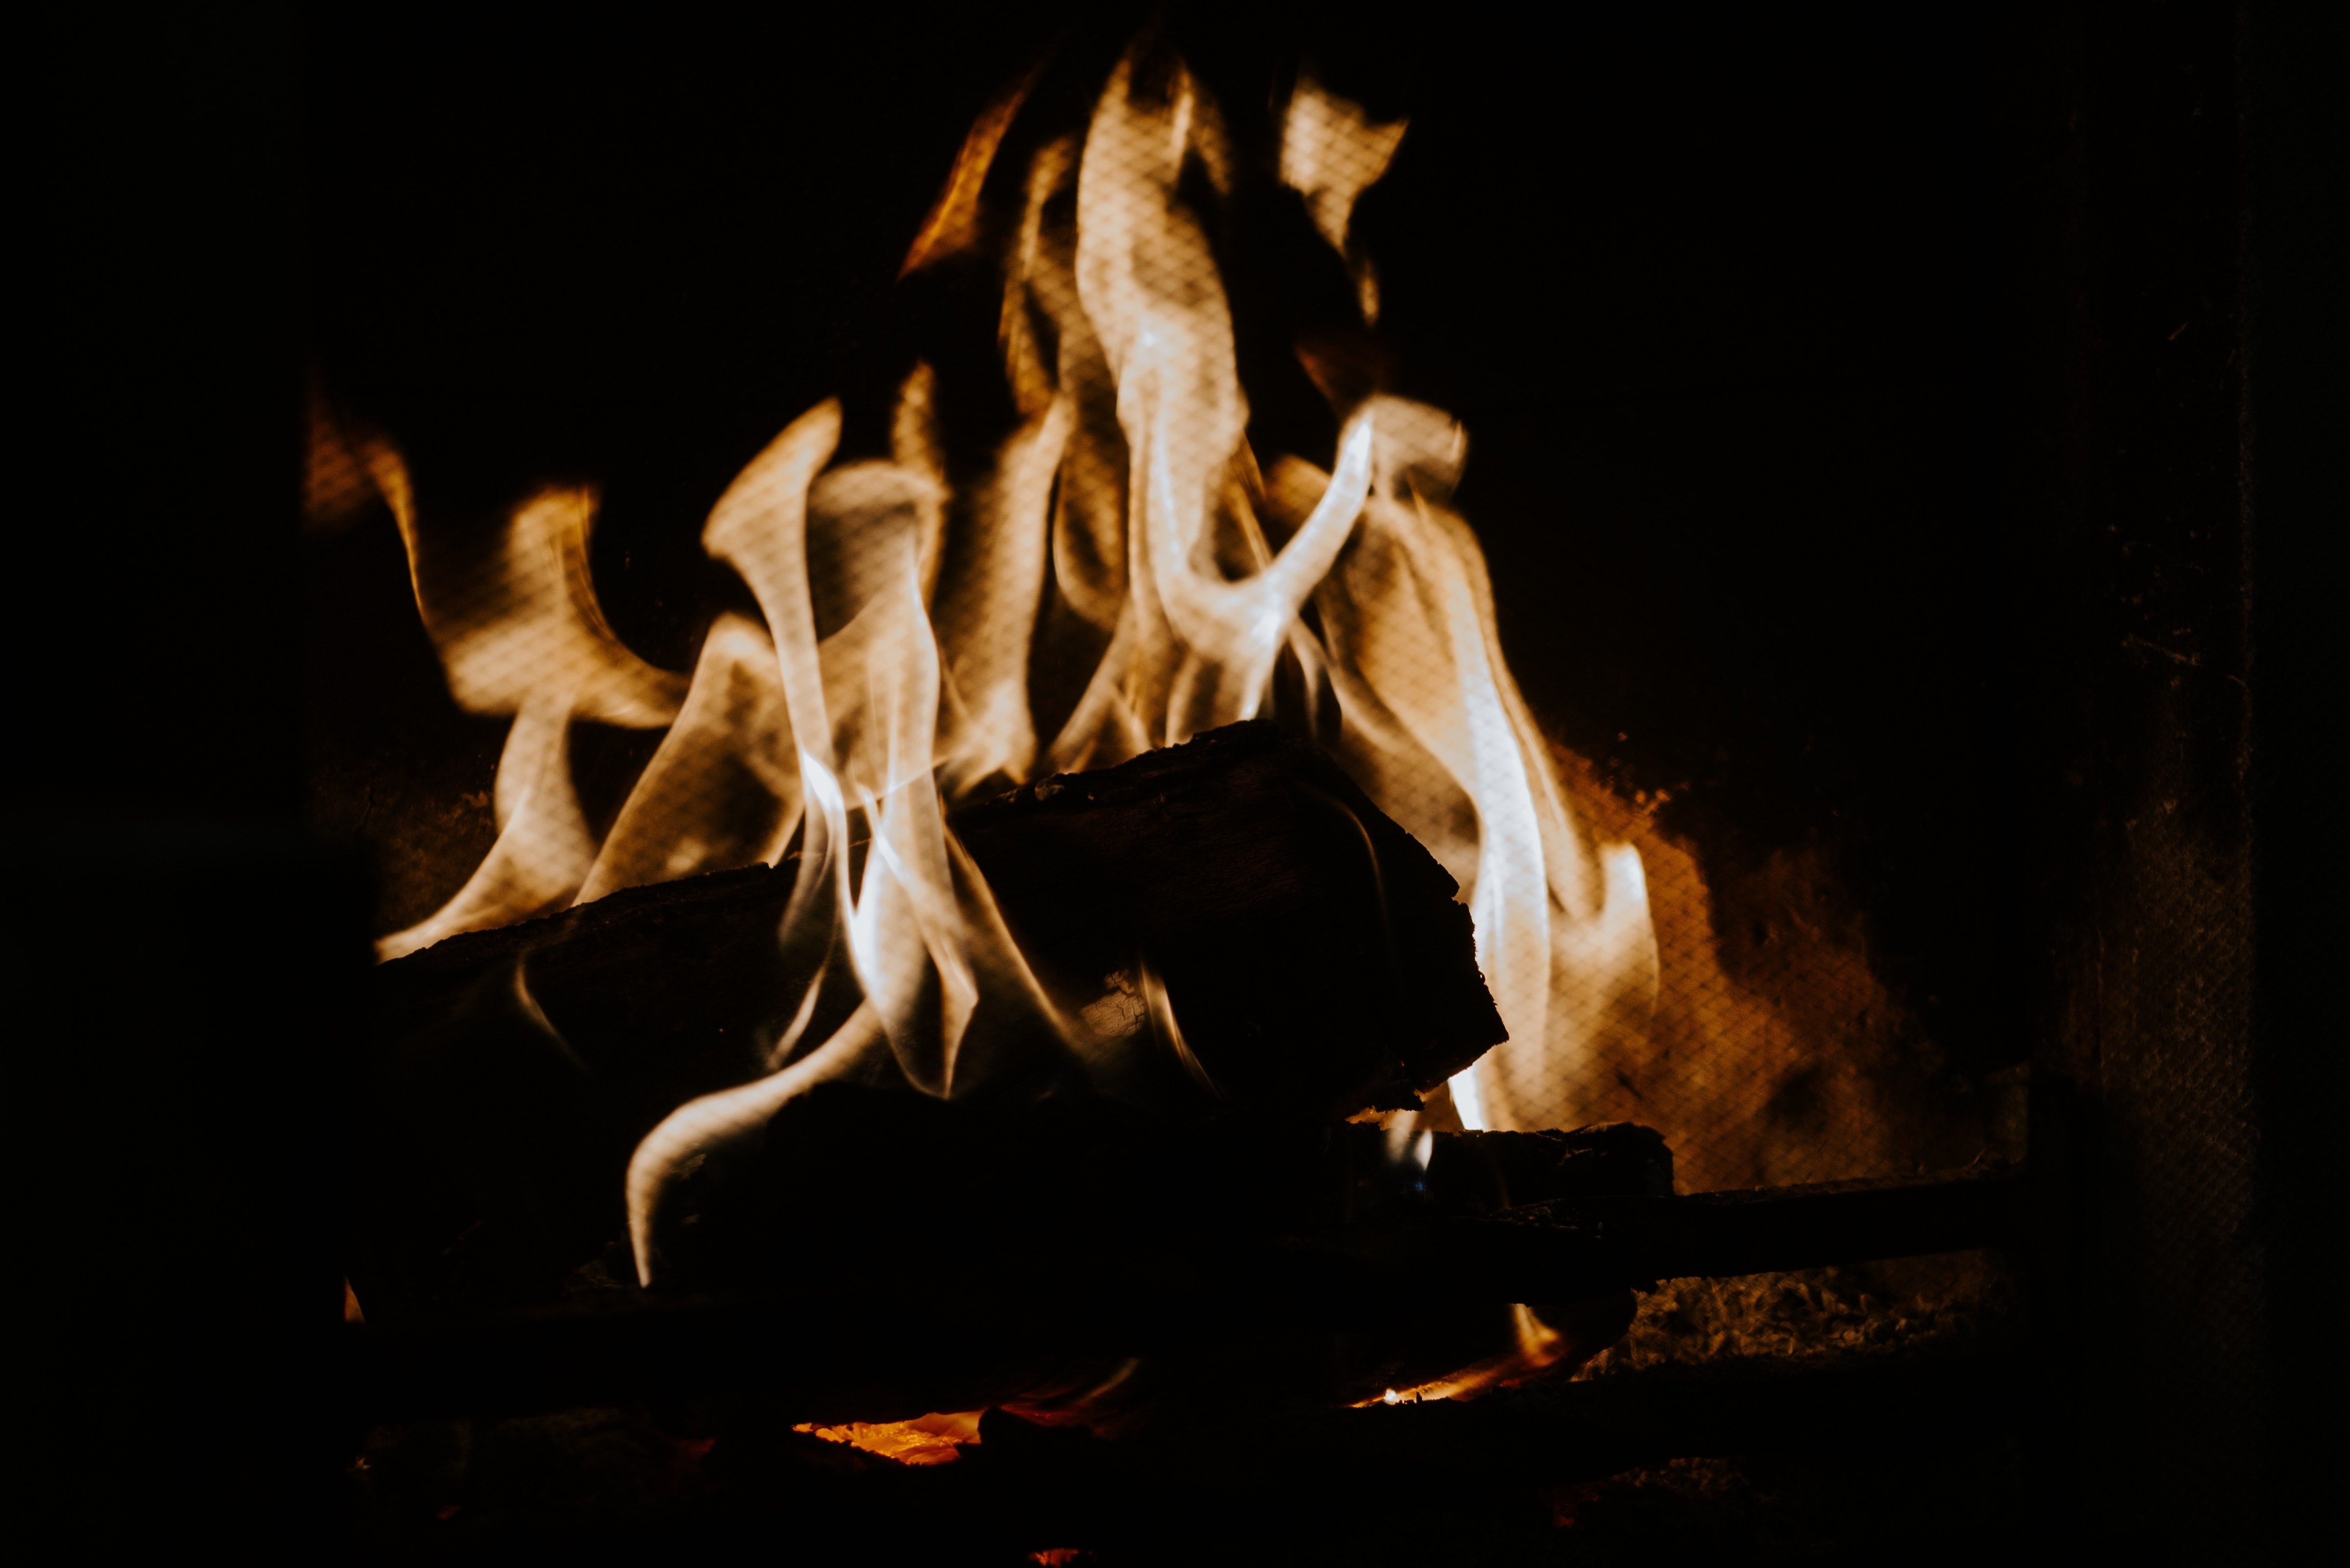fire: (366, 44, 1643, 1318)
